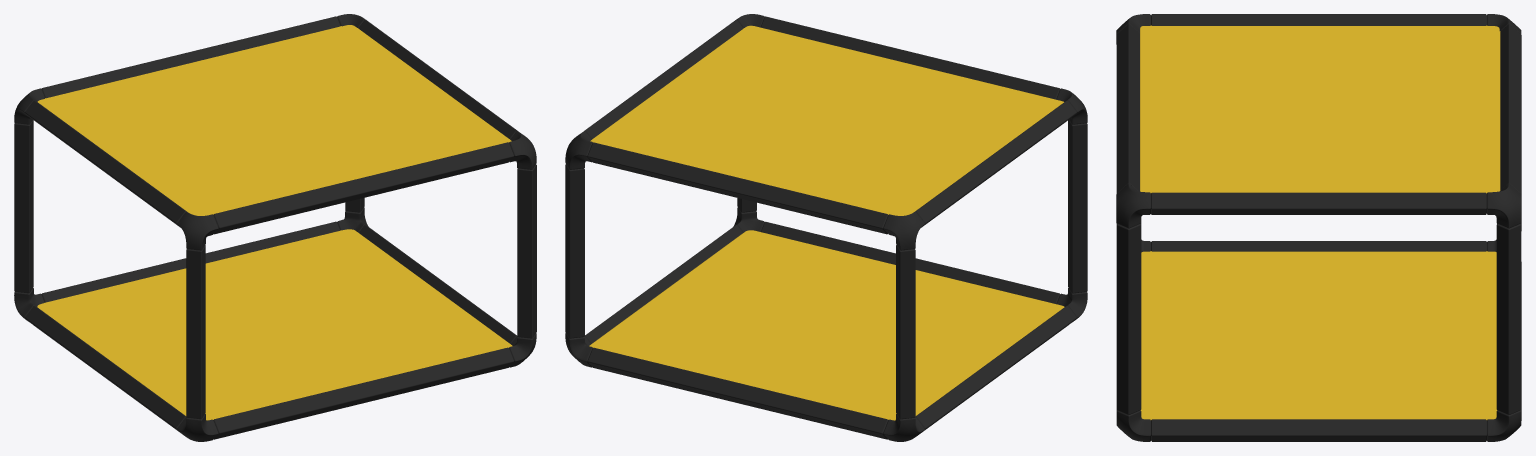
3 views of the same model, side by side, from view 1: azimuth 30°, elevation 25°; view 2: azimuth 150°, elevation 25°; view 3: azimuth 270°, elevation 25° (orthographic). The views are drawn at different scales.
Parts seen in each view (by area): view 1: 420x374x229; view 2: 420x374x229; view 3: 420x374x229.
Part boxes in pixels (x1,y1,x2,y2): 420x374x229: [14, 14, 536, 441]; 420x374x229: [565, 14, 1087, 441]; 420x374x229: [1116, 14, 1521, 441].
Bounding box in the file's own units: 0.4977 × 0.3066 × 0.4513.
